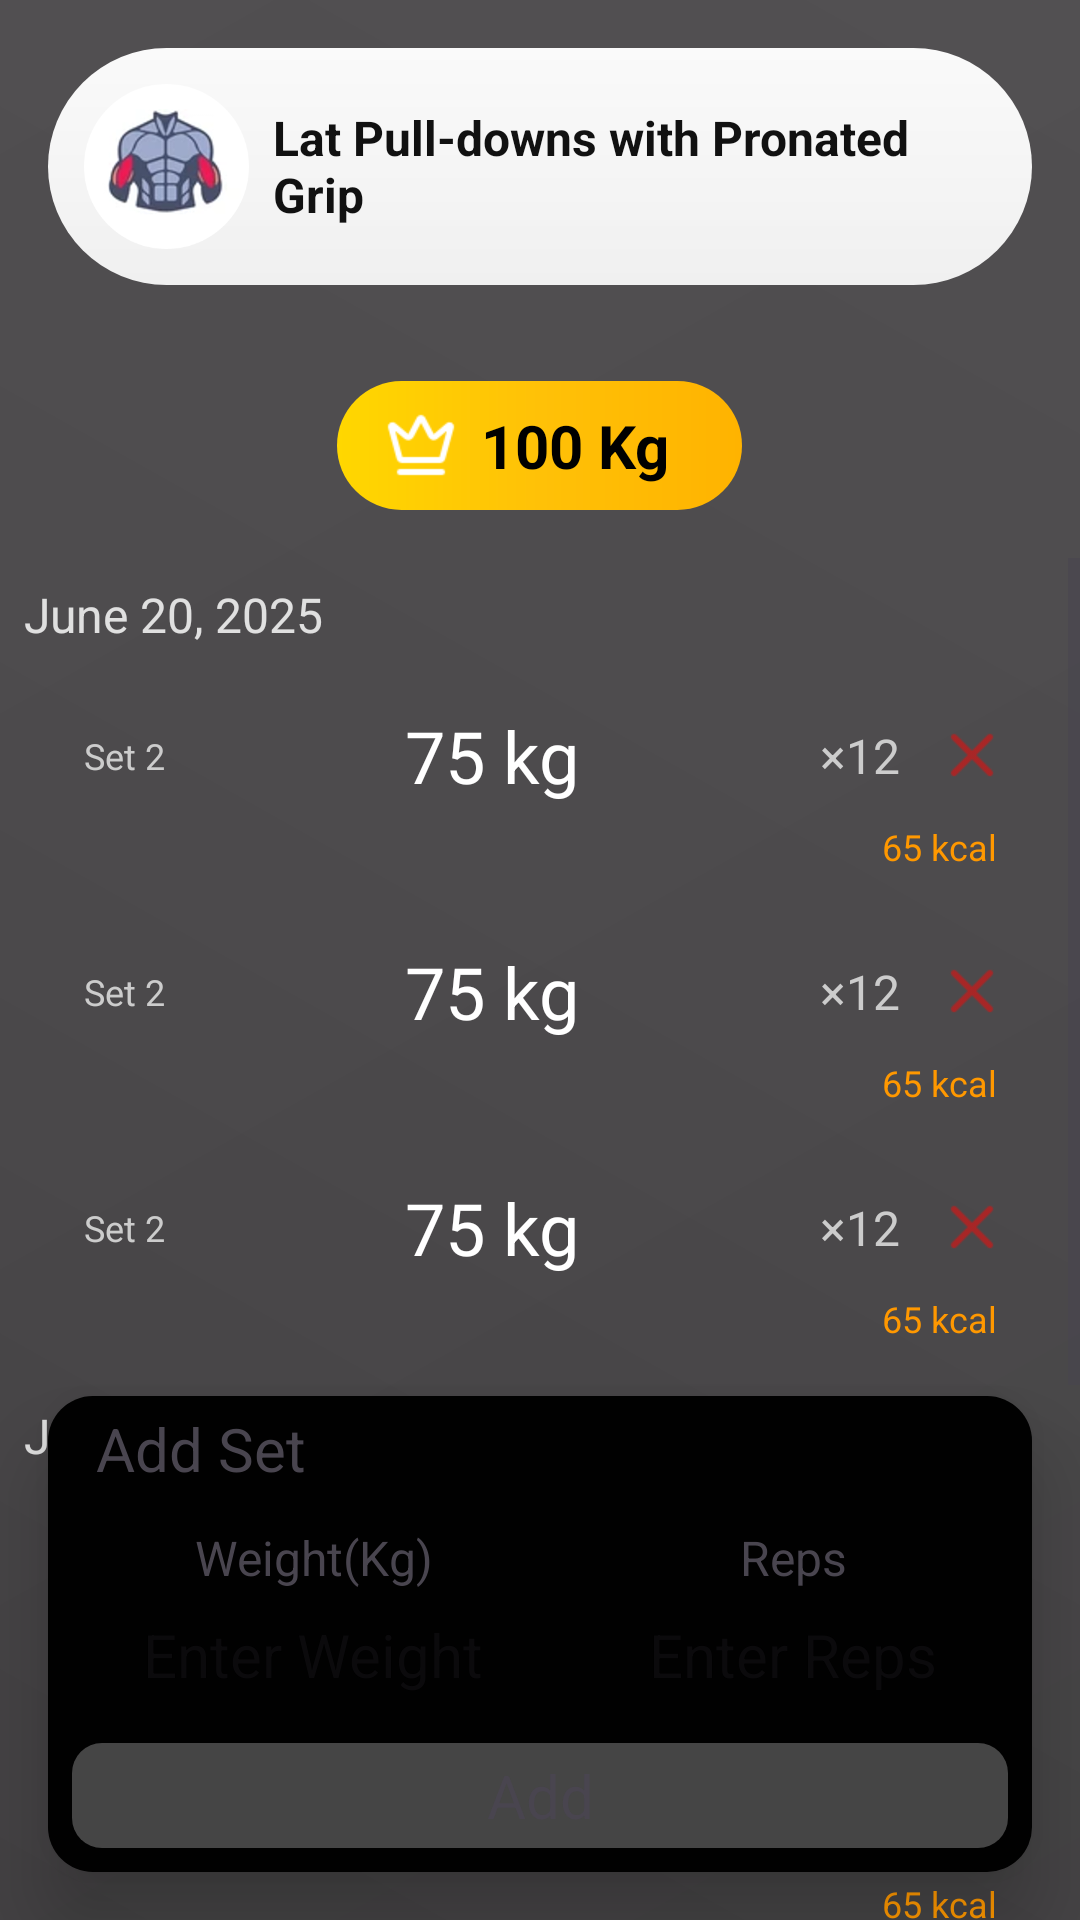

Icon click points for this 1080×1920 phone screenshot, format [x,y]:
crown: [421,445]
muscle biceps: [165,162]
